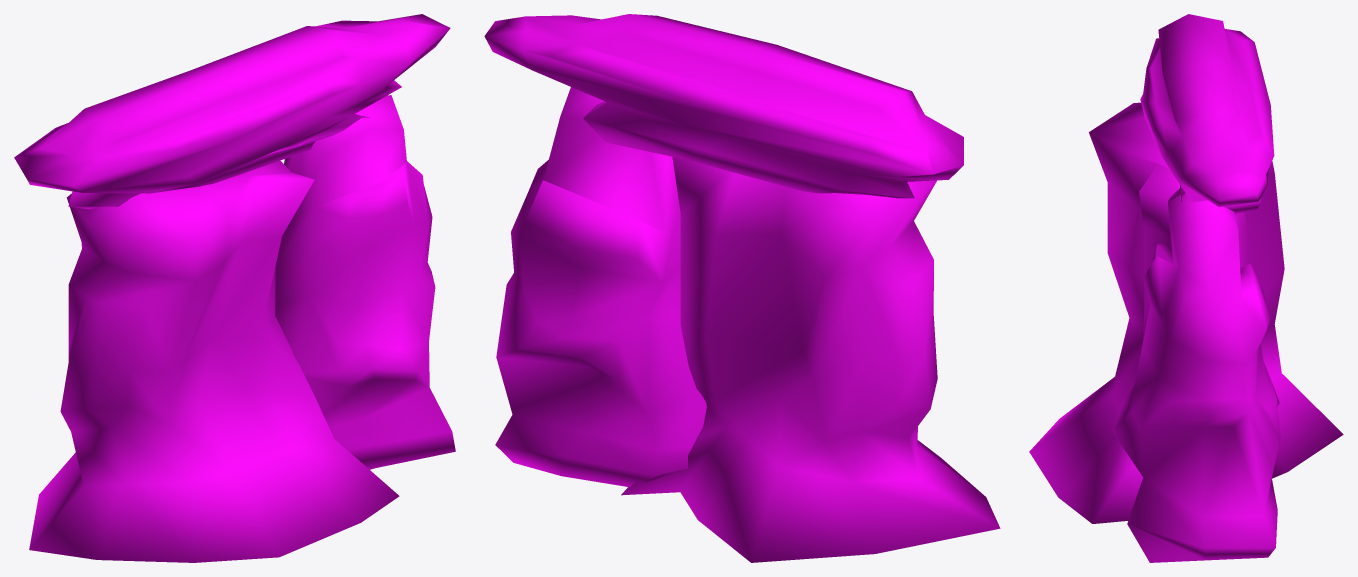
File: rock-set-desert-01.glb
3 renders of one model, left to right at view 1: azimuth 30°, elevation 25°; view 2: azimuth 150°, elevation 25°; view 3: azimuth 270°, elevation 25°, orthographic. The views are drawn at different scales.
Visible parts, largest first — view 1: Cube_006-mesh; view 2: Cube_006-mesh; view 3: Cube_006-mesh.
Part boxes in pixels (x1,y1,x2,y2): Cube_006-mesh: (14,14,455,562); Cube_006-mesh: (484,14,1000,562); Cube_006-mesh: (1029,14,1343,562).
Size of the model in its own units: 3.02 by 2.71 by 1.89.
